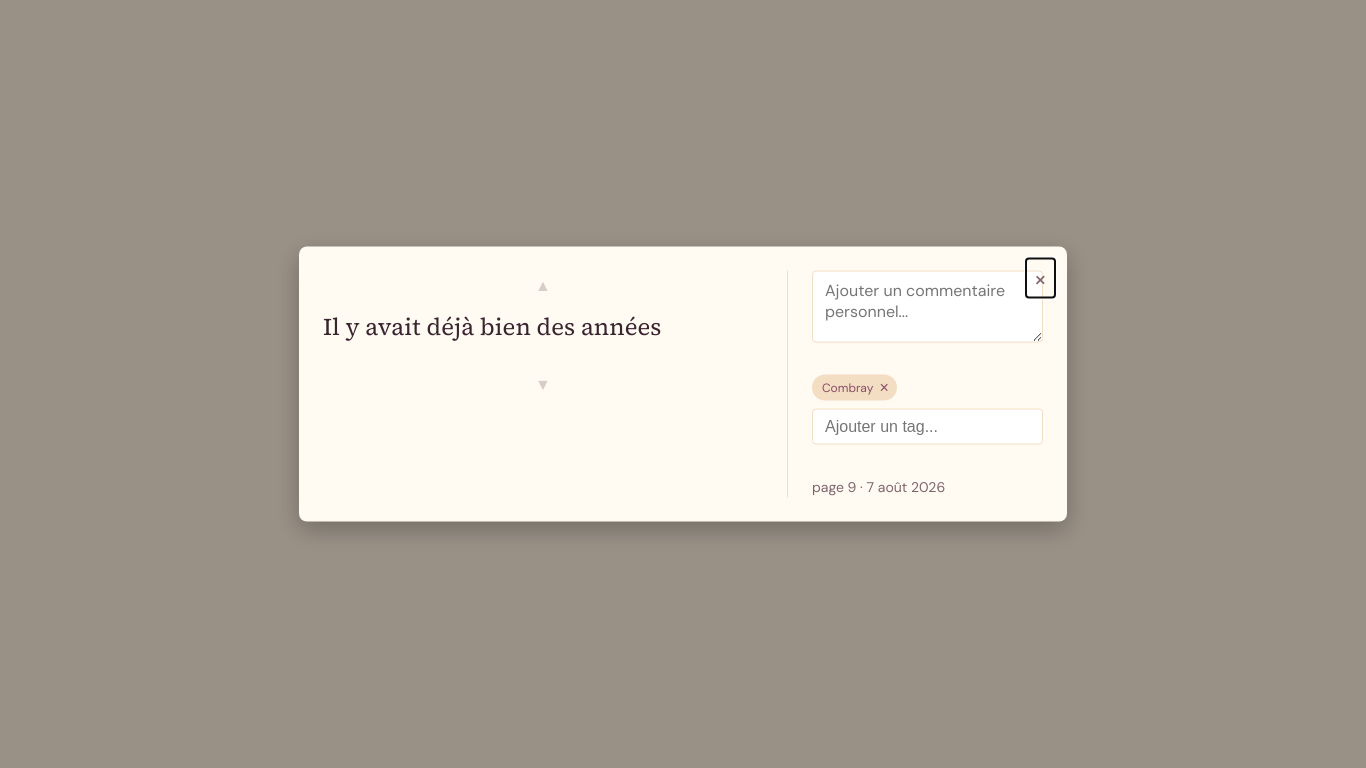
Test: QuoteDetailModal › shows an error toast when saving the comment fails
Type "Un souvenir marquant." into the text box labelled "commentaire personnel". click: [928, 306]
box: [812,270,1043,342]
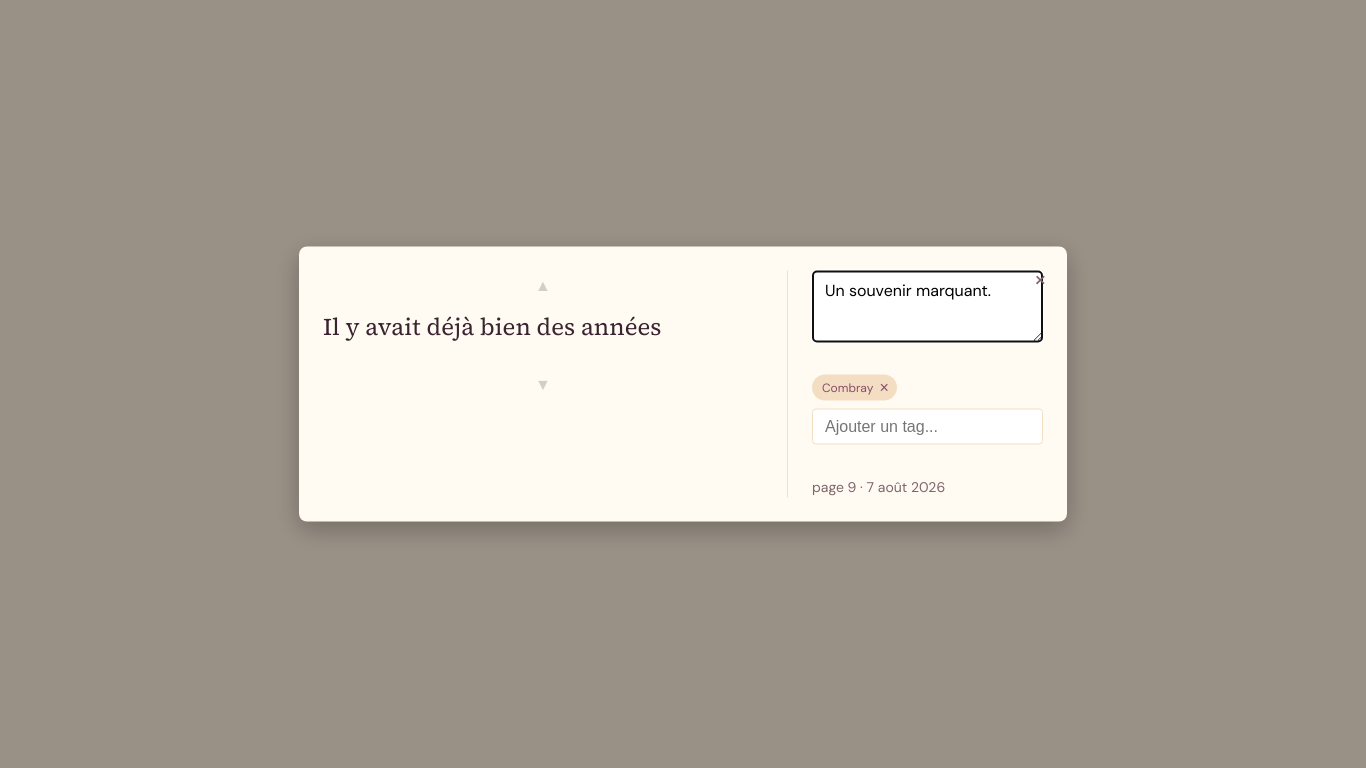
Click the button named "Fermer". click: [1040, 278]
box: [1026,258,1055,298]
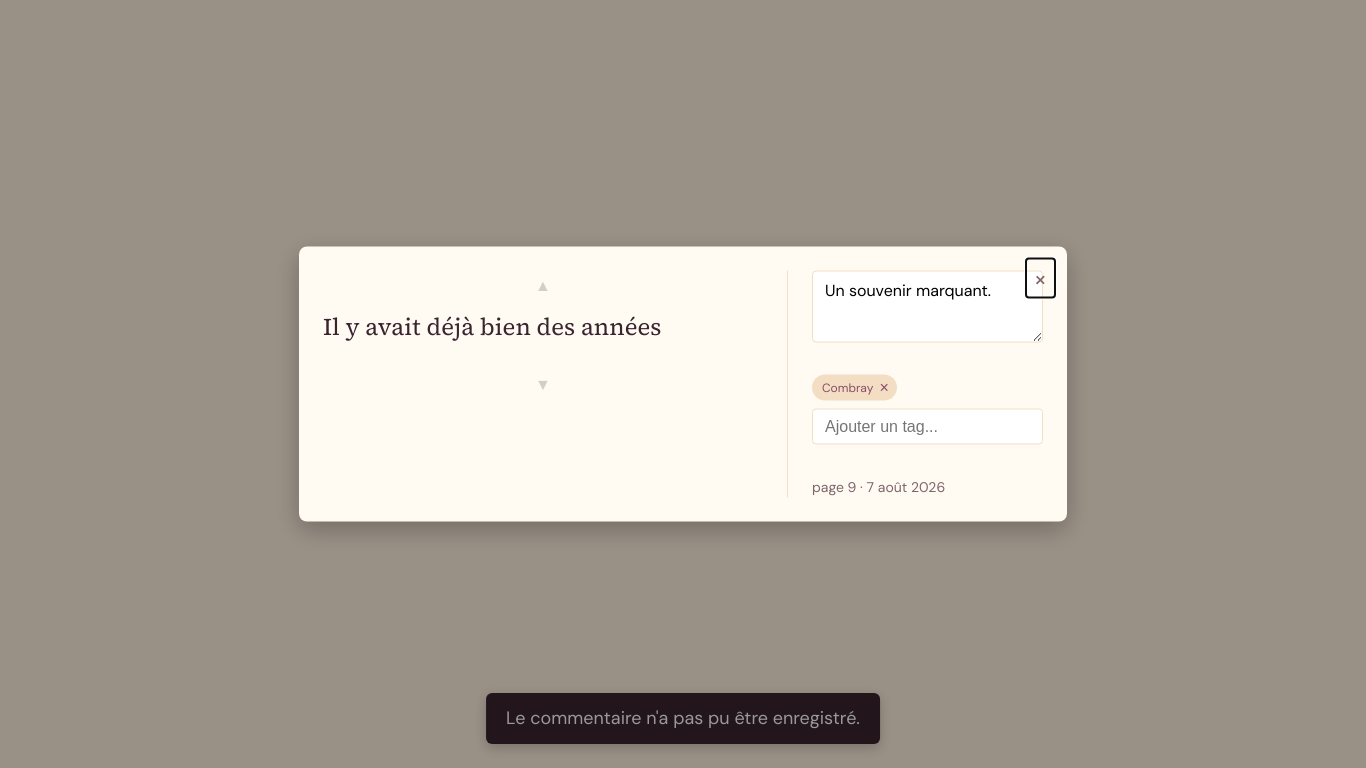
Expected: the text "Le commentaire n'a pas pu être enregistré." is shown, [486,693,880,744]
